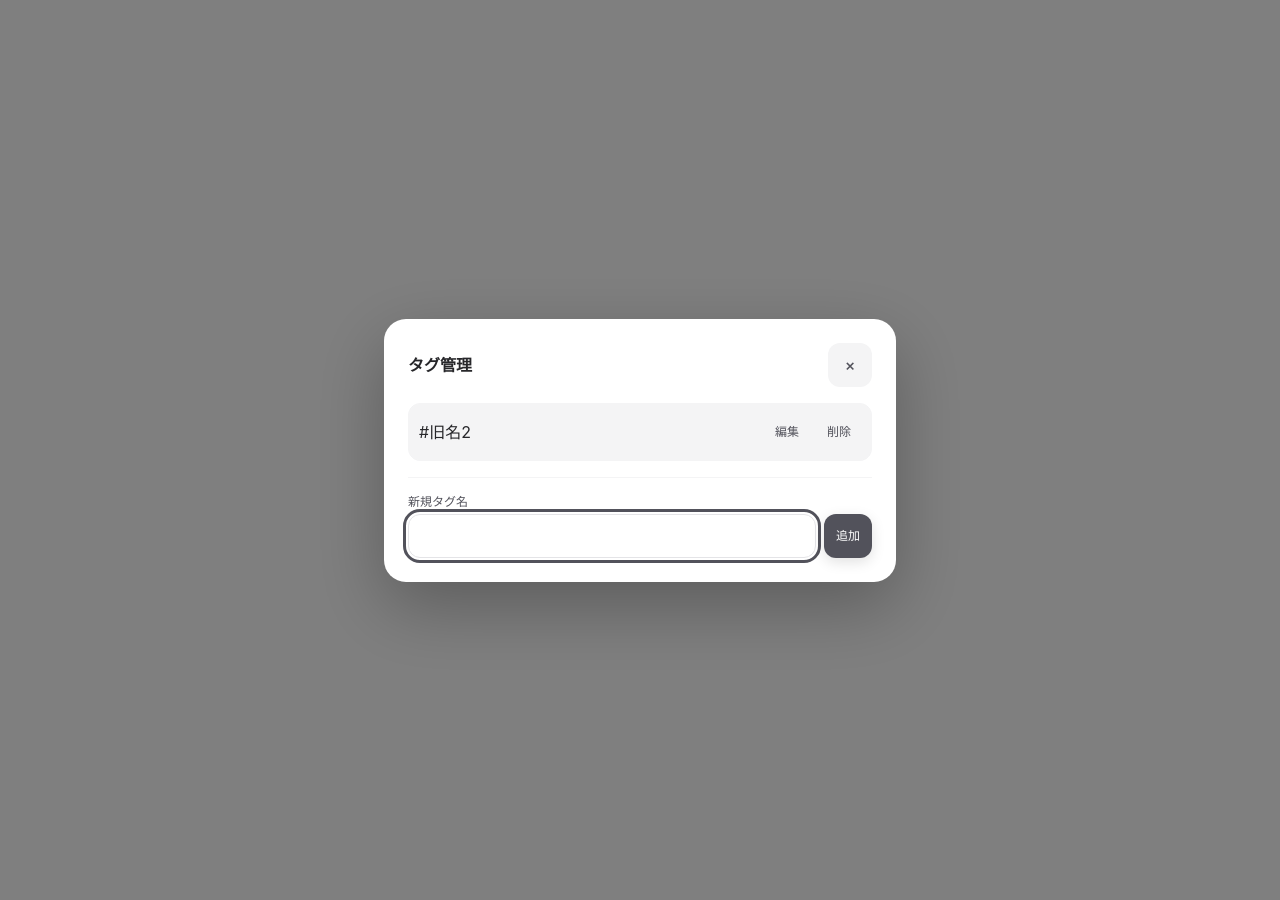
Scenario: TagManagementModal › shows a duplicate-name error when renaming to a name that already exists (409)
Step 1. Click the button with aria-label "「旧名2」を編集" → {"x": 787, "y": 432}, box [765, 410, 809, 454]
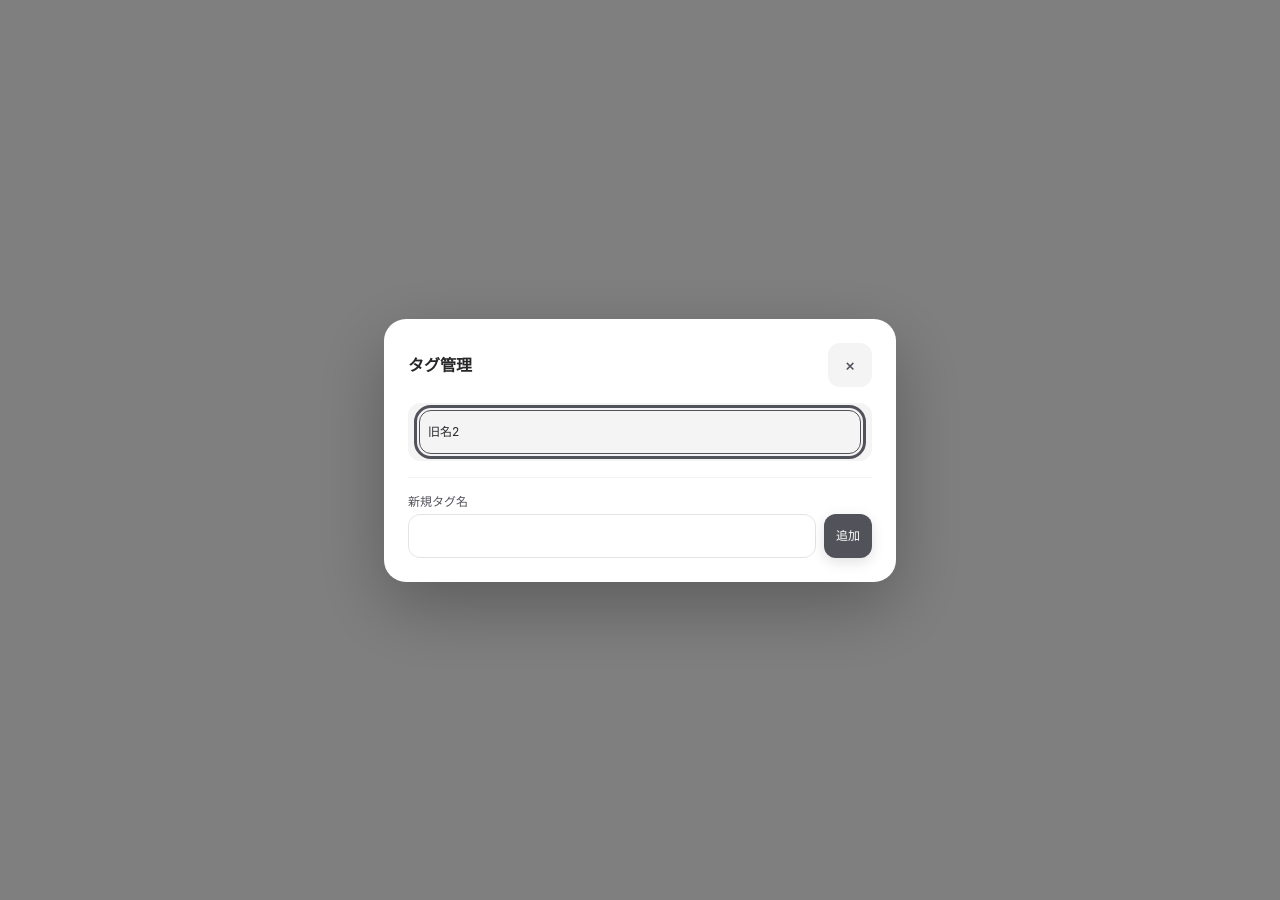
Step 2. Replace the text in the field named "「旧名2」の名前を編集" with "重複名" → {"x": 640, "y": 432}, box [419, 410, 861, 454]
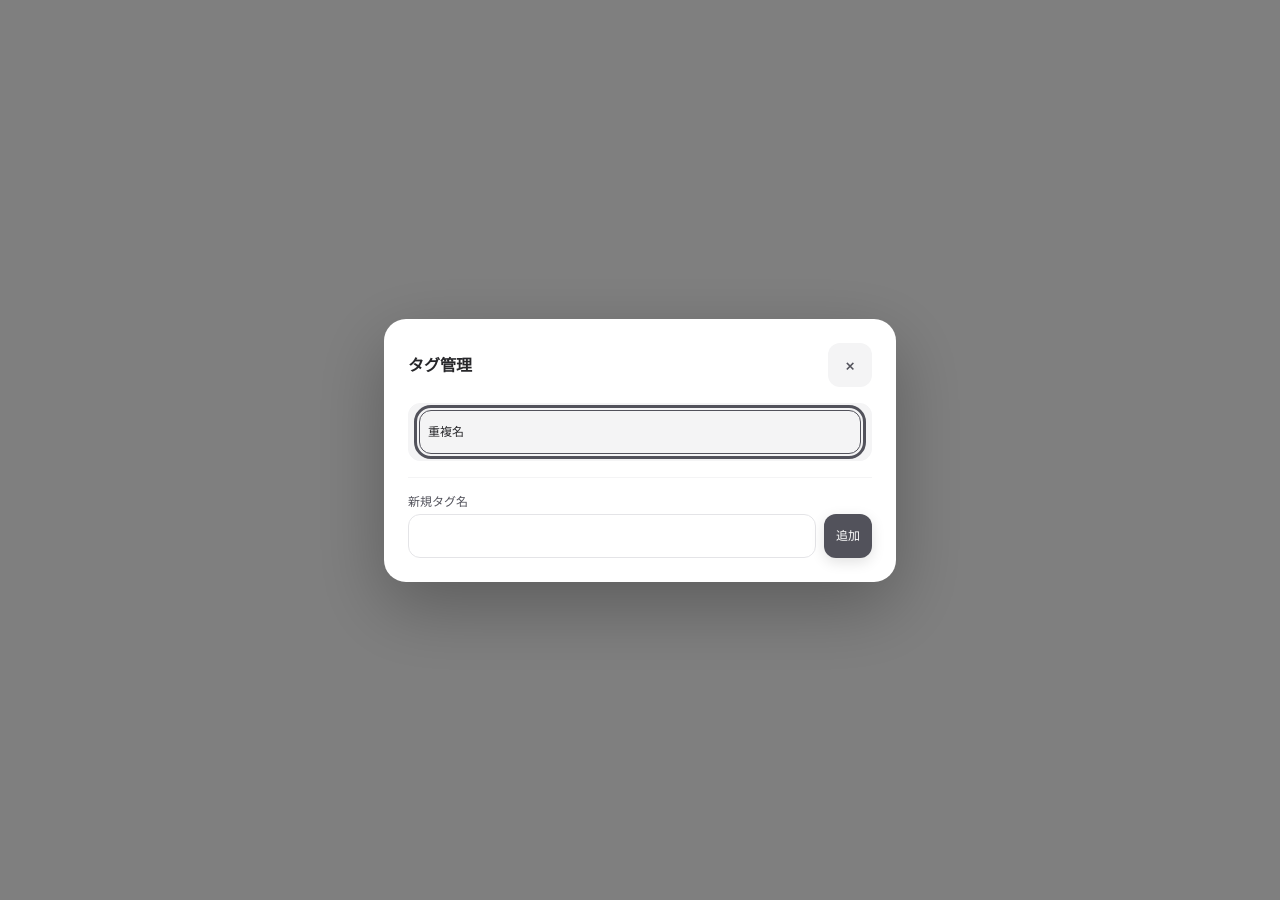
Step 3. Press Enter
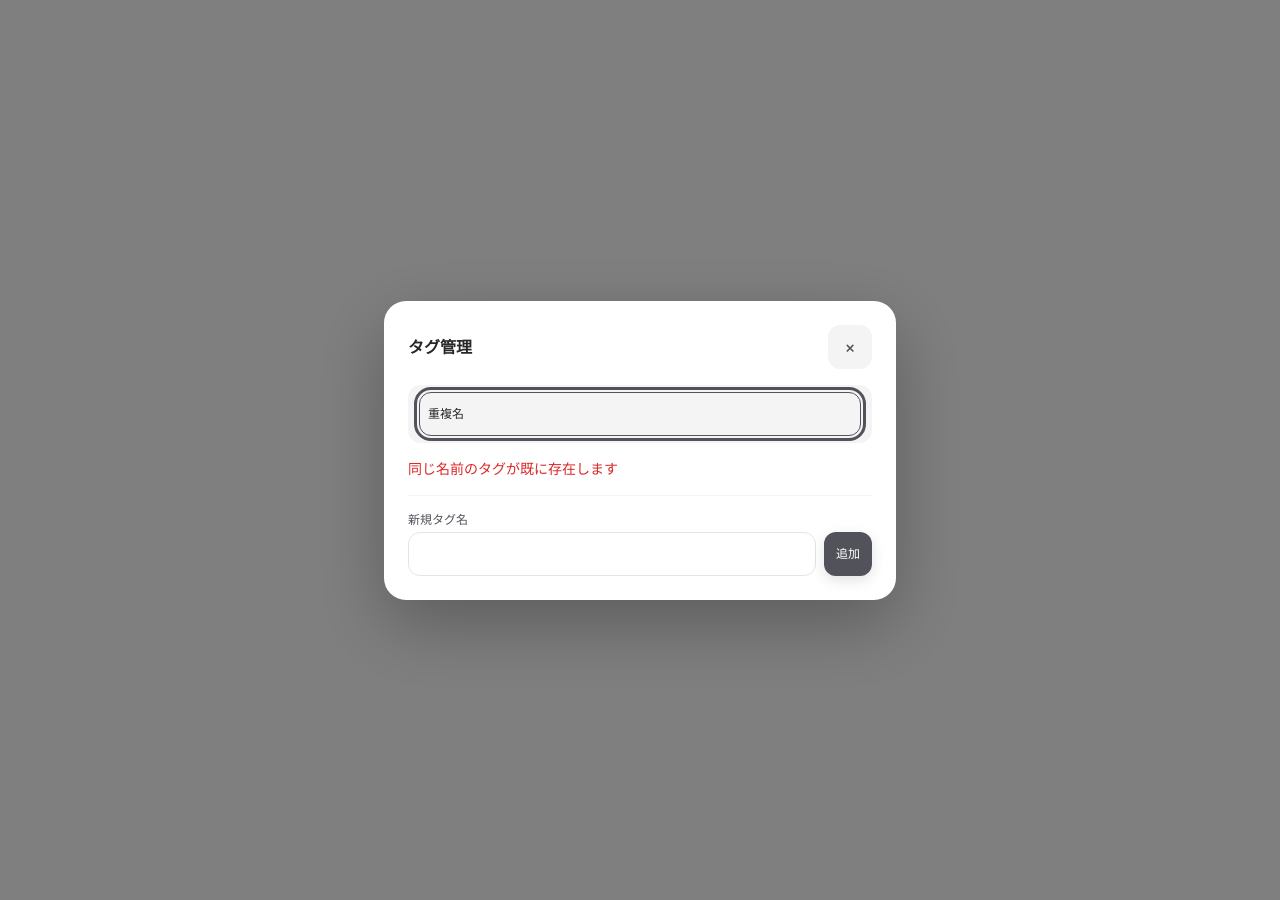
Result: the text "同じ名前のタグが既に存在します" is shown at [408, 460, 618, 476]
